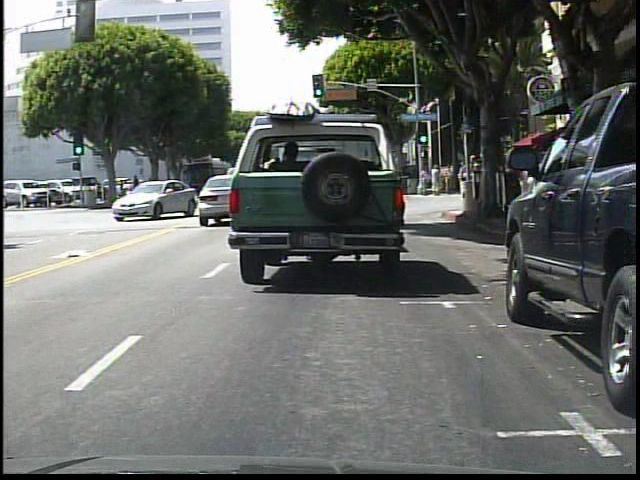person: (430, 162, 442, 195), (444, 162, 455, 194), (419, 166, 429, 195)
